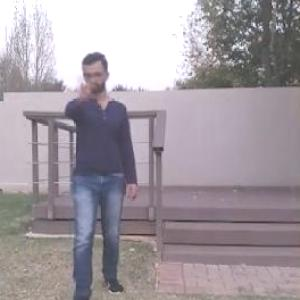takeoff-hand: (72, 70, 98, 104)
